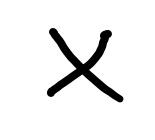mult: (47, 27, 126, 103)
